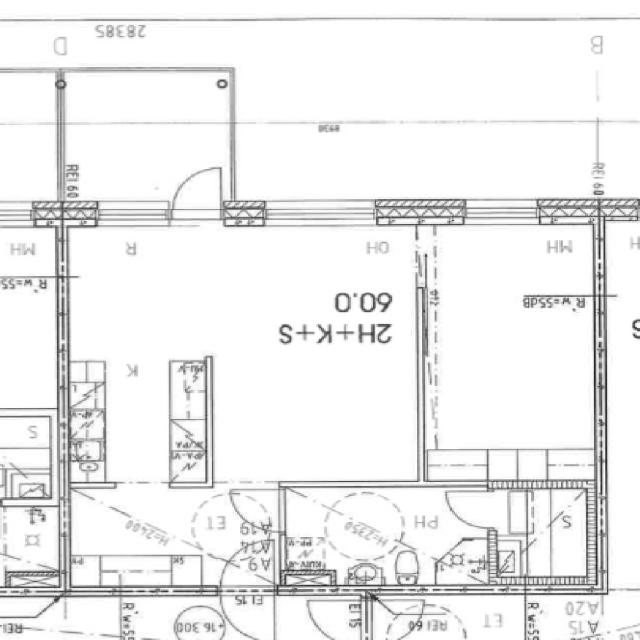door: (172, 158, 220, 226), (220, 538, 274, 594), (220, 585, 274, 640), (232, 490, 286, 531), (447, 491, 497, 526)
